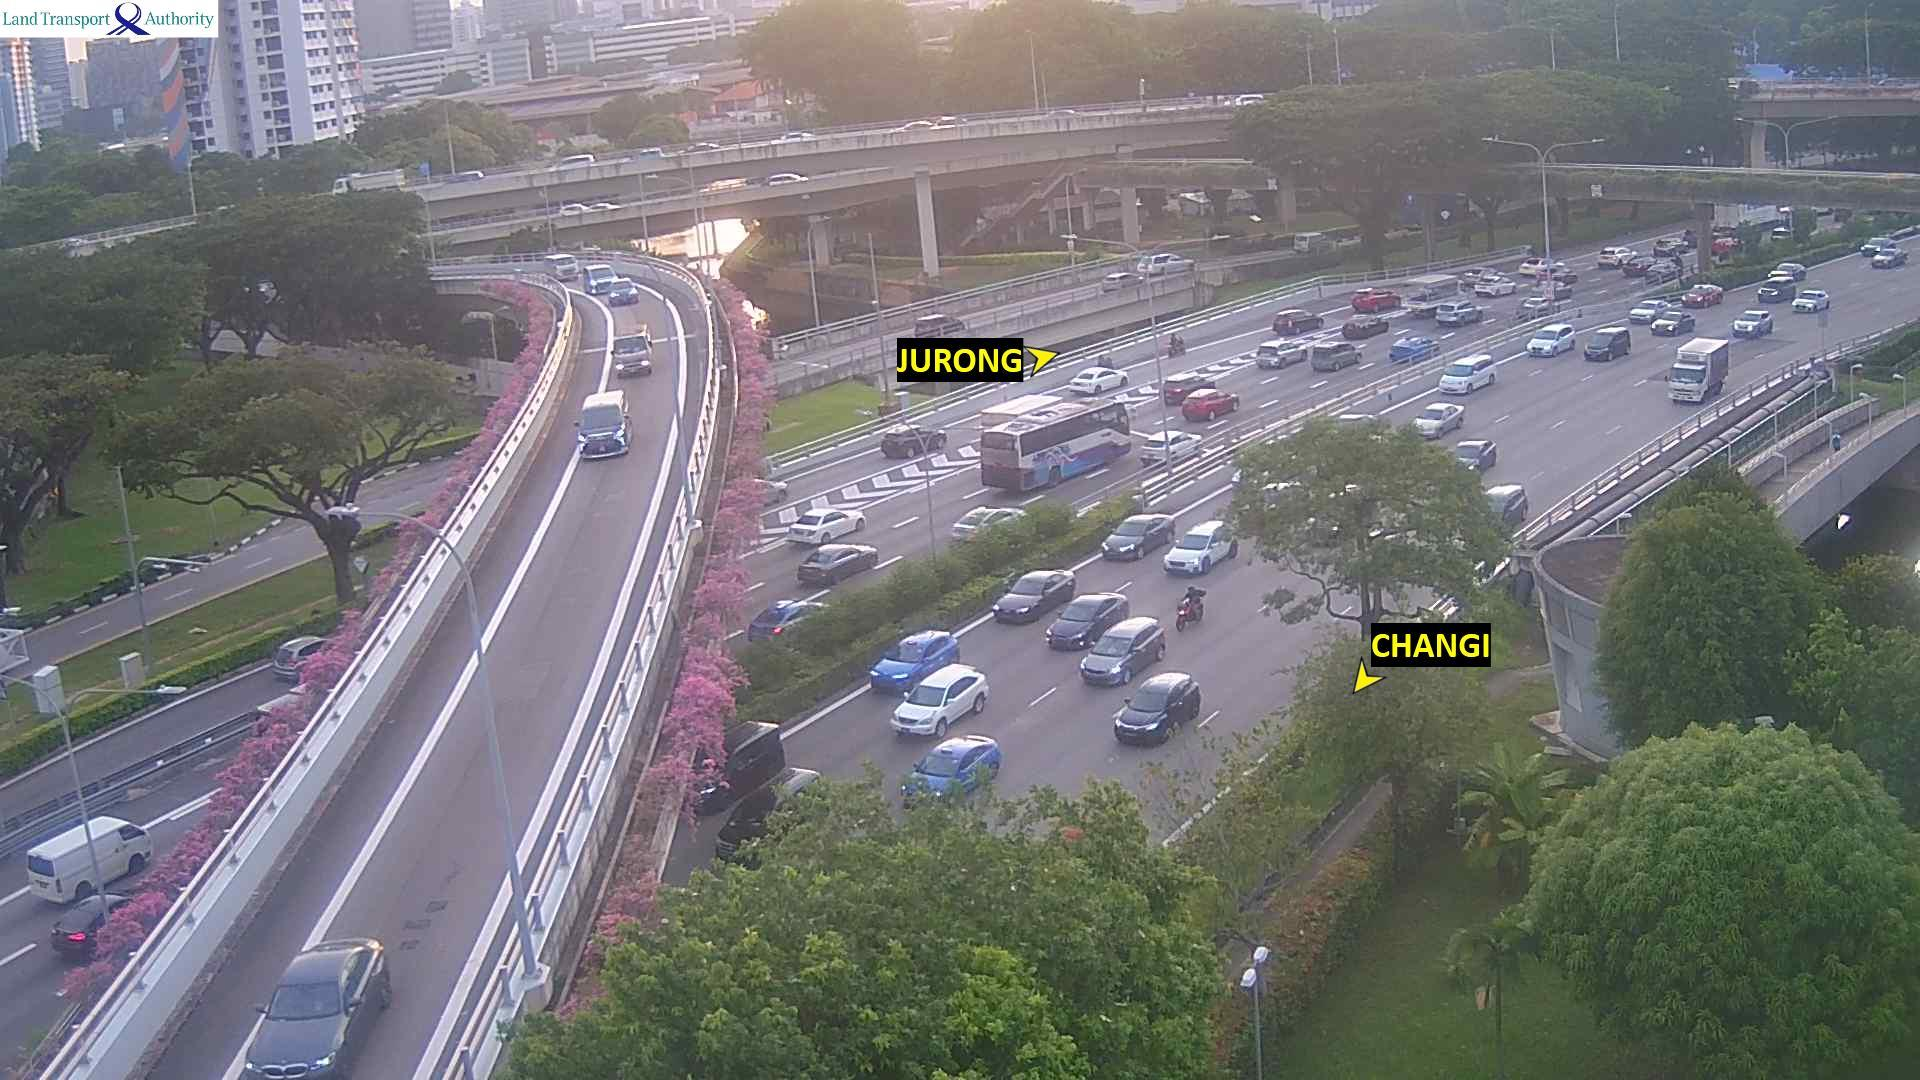incoming: (251, 989, 353, 1080), (1112, 695, 1162, 749), (578, 411, 628, 462), (894, 688, 945, 737), (872, 642, 920, 692), (911, 752, 960, 799), (1079, 638, 1129, 684), (1668, 351, 1708, 405), (1054, 601, 1100, 647), (997, 579, 1044, 624), (611, 334, 654, 380), (1167, 533, 1211, 578), (1102, 522, 1150, 558), (1437, 360, 1474, 396), (1412, 407, 1448, 436), (588, 269, 622, 291), (1528, 328, 1556, 356), (1585, 334, 1614, 360), (609, 282, 640, 307), (553, 255, 580, 281), (1651, 314, 1677, 338), (1731, 316, 1760, 338), (1175, 604, 1193, 630)
